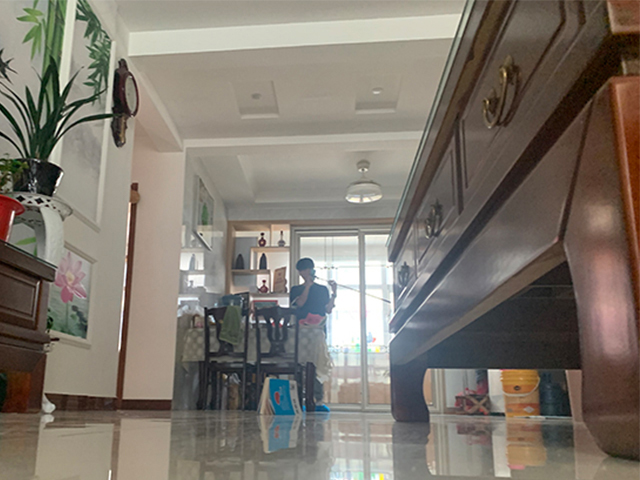book: (255, 376, 302, 415)
stool: (199, 303, 251, 411), (252, 304, 302, 411)
table: (385, 1, 640, 459), (181, 324, 332, 413)
